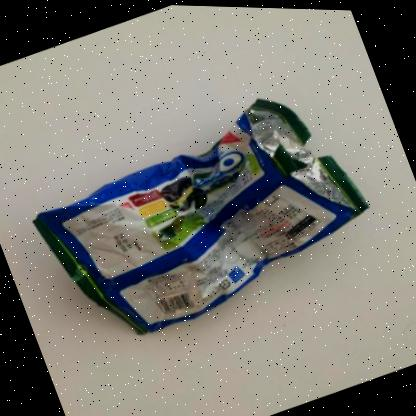Plastic: (32, 97, 367, 335)
